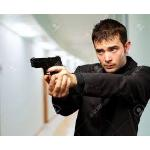Pistol: (29, 54, 63, 77)
